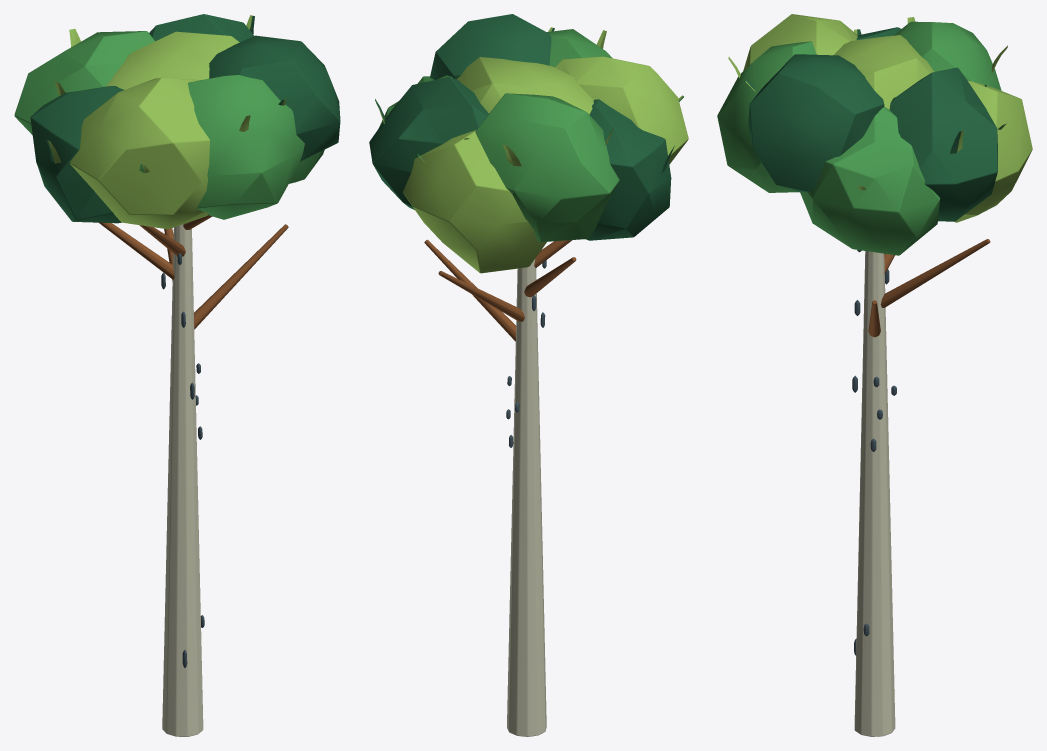
File: tree_birch.glb
The picture shows the model from 3 angles, left to right: view 1: azimuth 30°, elevation 25°; view 2: azimuth 150°, elevation 25°; view 3: azimuth 270°, elevation 25°; orthographic projection. The views are drawn at different scales.
Visible parts, largest first — view 1: Pale birch trunk.001; view 2: Pale birch trunk.001; view 3: Pale birch trunk.001.
Part boxes in pixels (bbox=[...]): Pale birch trunk.001: bbox=[14, 14, 340, 736]; Pale birch trunk.001: bbox=[369, 14, 688, 736]; Pale birch trunk.001: bbox=[717, 14, 1032, 736].
Size of the model in its own units: 3.17 by 7.29 by 3.01.
